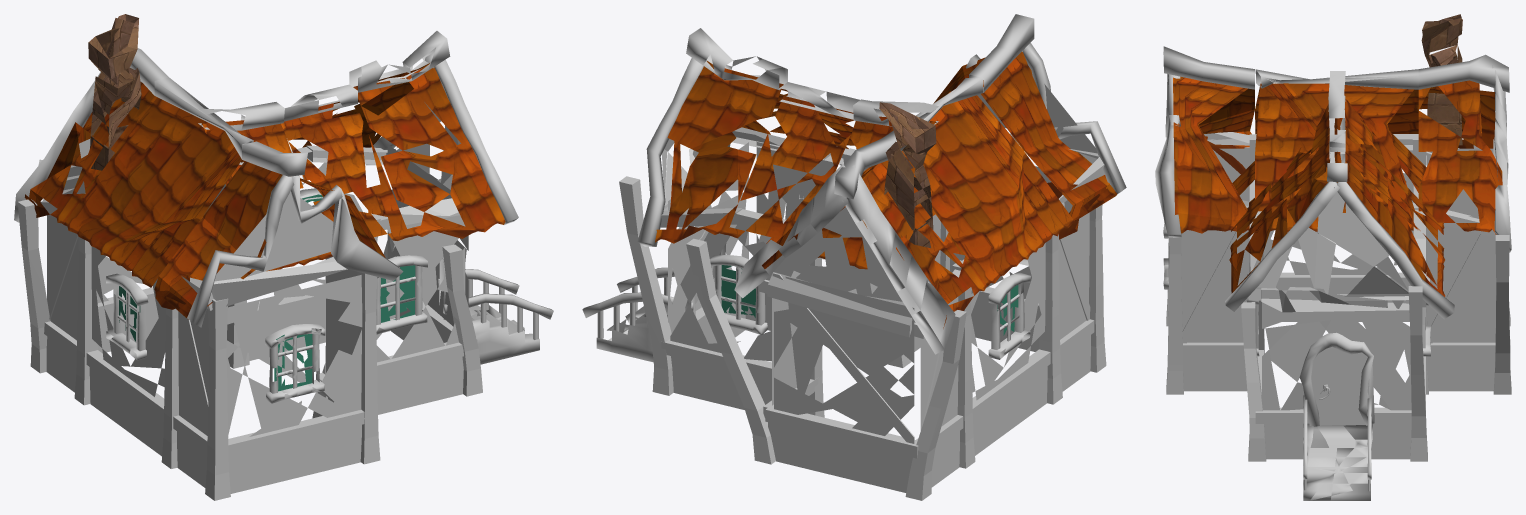
File: house2_after.fbx
3 renders of one model, left to right at view 1: azimuth 30°, elevation 25°; view 2: azimuth 150°, elevation 25°; view 3: azimuth 270°, elevation 25°, orthographic. The views are drawn at different scales.
Visible parts, largest first — view 1: Plane.007; view 2: Plane.007; view 3: Plane.007.
Boxes of the visible parts, <box> form: Plane.007: <box>14,14,553,500</box>; Plane.007: <box>582,14,1126,500</box>; Plane.007: <box>1155,14,1511,500</box>.
Size of the model in its own units: 15087 by 11695 by 11357.
